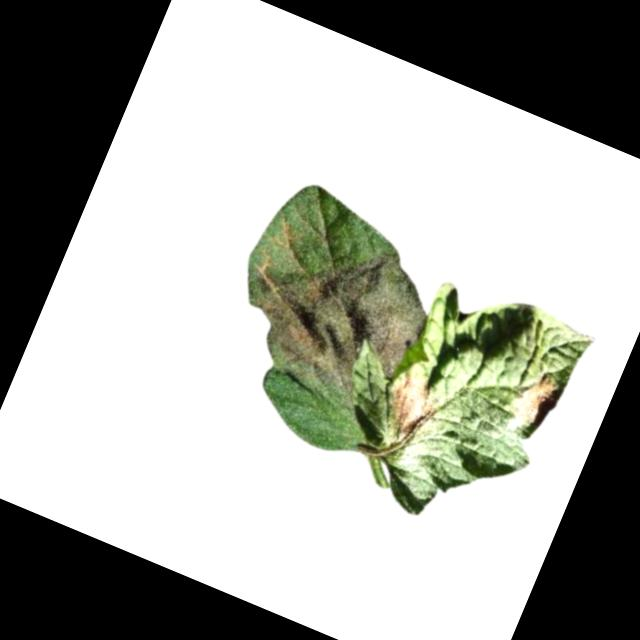Late_blight: (218, 202, 450, 428), (379, 364, 450, 444), (507, 363, 568, 434)
